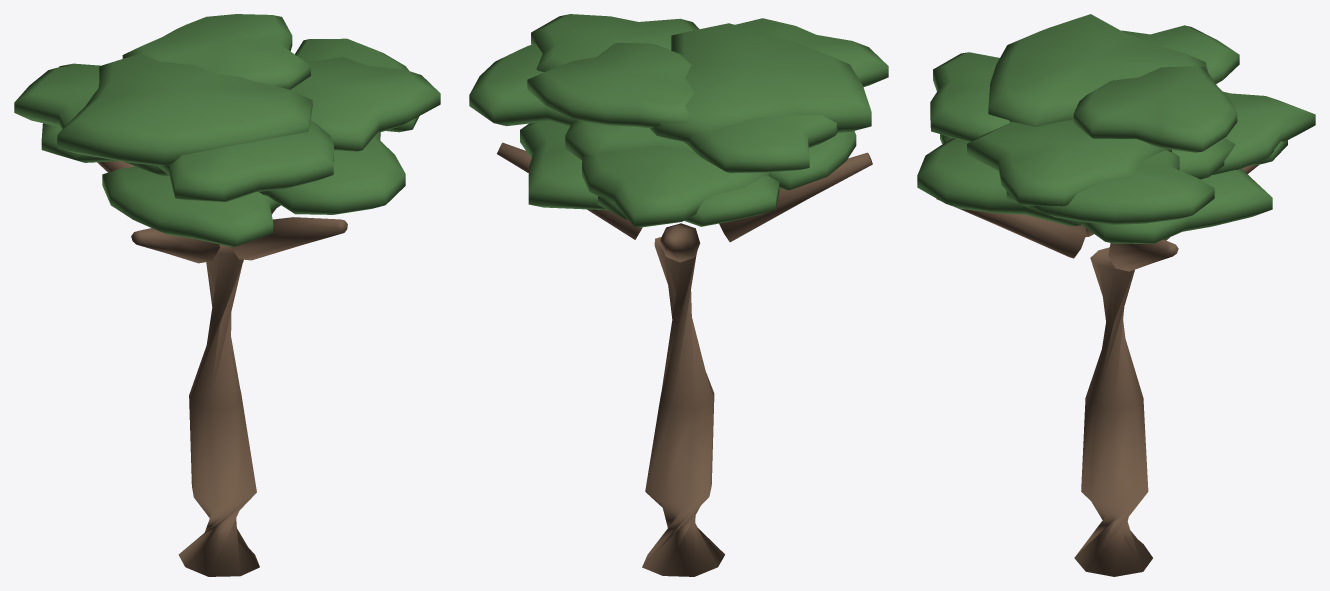
Rendered from tree_garden_f.glb.
3 views of the same model, side by side, from view 1: azimuth 30°, elevation 25°; view 2: azimuth 150°, elevation 25°; view 3: azimuth 270°, elevation 25° (orthographic). The views are drawn at different scales.
Parts seen in each view (by area): view 1: Tint, Flat crown.006, Flat crown.002, Flat crown.004, Flat crown.010, Flat crown.005, Flat crown.003, Flat crown.007, Flat crown.001, Flat crown.008; view 2: Tint, Flat crown.006, Flat crown.010, Flat crown.009, Flat crown.007, Flat crown.002, Flat crown.011, Flat crown.001, Flat crown.004, Flat crown.008, Flat crown, Flat crown.005; view 3: Tint, Flat crown.006, Flat crown.010, Flat crown.002, Flat crown.001, Flat crown.003, Flat crown.004, Flat crown.011, Flat crown.009, Flat crown.007, Flat crown.
Boxes of the visible parts, box(x1,y1,x2,y2) form: Tint: box(97, 161, 347, 576); Flat crown.006: box(57, 53, 312, 165); Flat crown.002: box(290, 57, 440, 151); Flat crown.004: box(157, 121, 333, 201); Flat crown.010: box(122, 14, 310, 89); Flat crown.005: box(102, 166, 280, 246); Flat crown.003: box(259, 132, 405, 214); Flat crown.007: box(14, 65, 100, 128); Flat crown.001: box(295, 38, 419, 132); Flat crown.008: box(41, 123, 119, 162); Tint: box(497, 142, 872, 576); Flat crown.006: box(650, 23, 871, 141); Flat crown.010: box(527, 43, 694, 128); Flat crown.009: box(582, 145, 769, 227); Flat crown.007: box(682, 115, 838, 173); Flat crown.002: box(531, 14, 699, 72); Flat crown.011: box(520, 121, 607, 210); Flat crown.001: box(469, 43, 576, 126); Flat crown.004: box(735, 18, 888, 87); Flat crown.008: box(598, 175, 779, 226); Flat crown: box(565, 120, 698, 160); Flat crown.005: box(769, 131, 856, 190); Tint: box(936, 165, 1258, 576); Flat crown.006: box(988, 14, 1208, 126); Flat crown.010: box(1073, 66, 1237, 152); Flat crown.002: box(967, 119, 1171, 206); Flat crown.001: box(1006, 150, 1214, 224); Flat crown.003: box(917, 138, 1083, 226); Flat crown.004: box(930, 52, 1010, 141); Flat crown.011: box(1081, 168, 1272, 243); Flat crown.009: box(1212, 91, 1315, 174); Flat crown.007: box(1121, 25, 1239, 83); Flat crown: box(1172, 138, 1235, 179).
Bounding box in the file's own units: 1.8 × 2.37 × 1.78.
